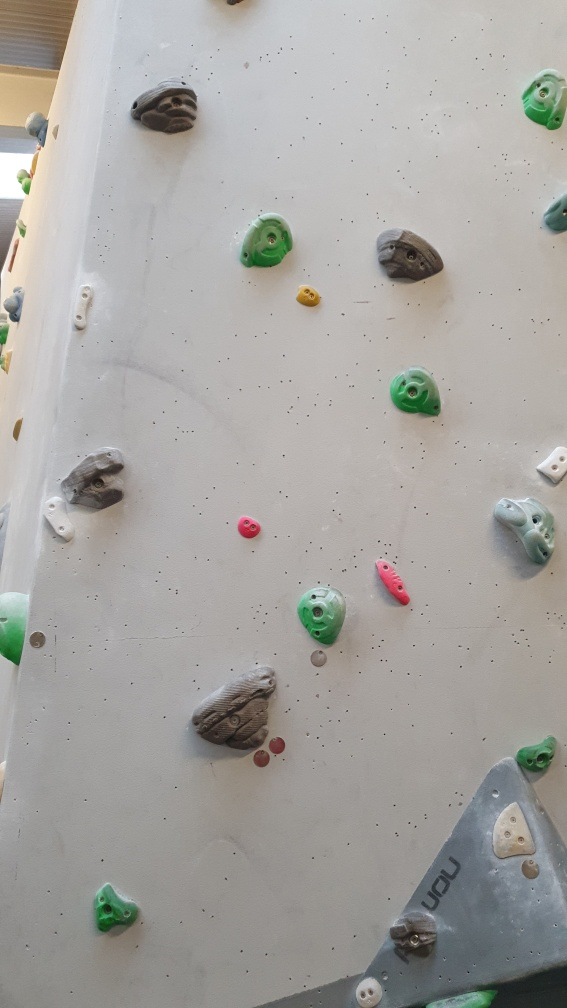Crimp: (38, 495, 79, 547), (374, 560, 414, 609), (69, 276, 98, 337)
Hand Start: (28, 630, 49, 652), (519, 859, 542, 879), (249, 747, 266, 768), (271, 734, 286, 755), (310, 650, 326, 668)
Jug: (190, 663, 276, 754), (62, 443, 135, 512), (373, 225, 449, 286), (127, 78, 202, 138), (495, 493, 553, 570), (295, 581, 348, 648), (387, 362, 445, 422), (519, 64, 567, 134), (238, 211, 292, 271), (515, 732, 561, 776)
Pinch: (231, 512, 264, 542), (297, 281, 324, 309)
